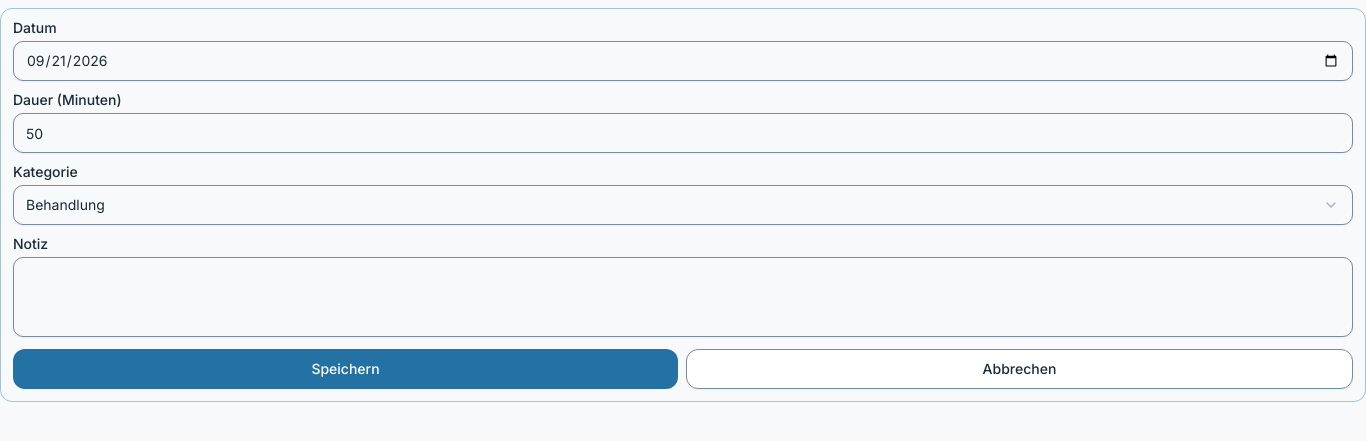
Test: TherapySessionEditForm › meldet eine geleerte Dauer mit „Bitte eine Dauer angeben“
The width and height of the screenshot is (1366, 441).
Clear the number field labelled "Dauer (Minuten)" at (683, 133), box [13,113,1353,153]
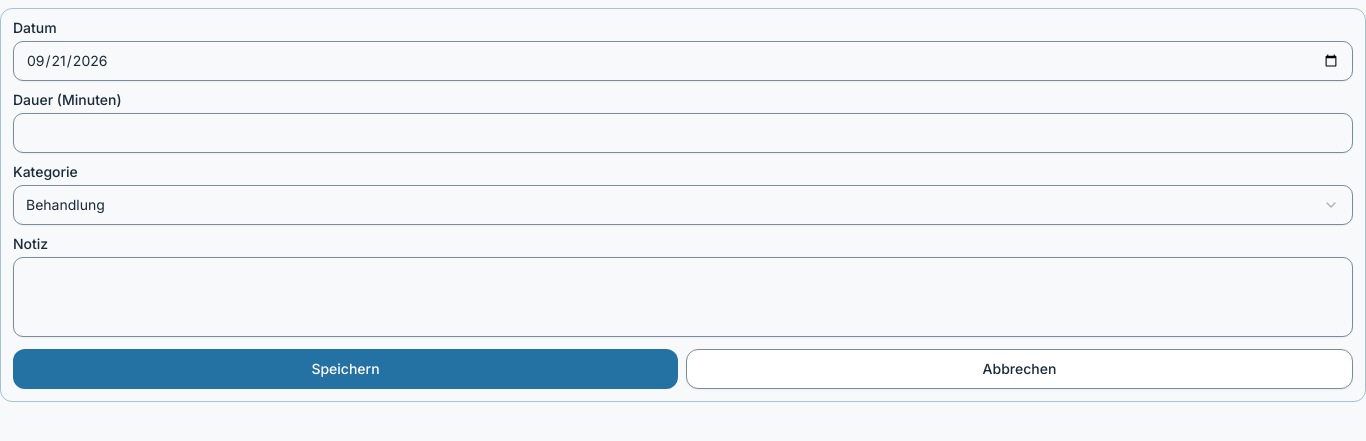
Click the button "Speichern" at (346, 369), box [13,349,678,389]
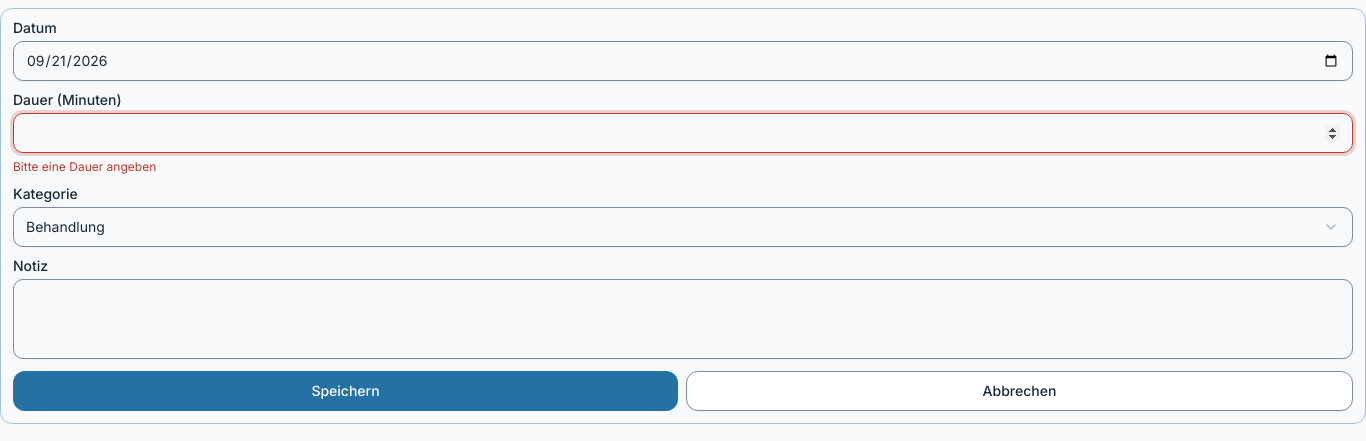
Now the text "Bitte eine Dauer angeben" is shown, box [13,159,156,174]
